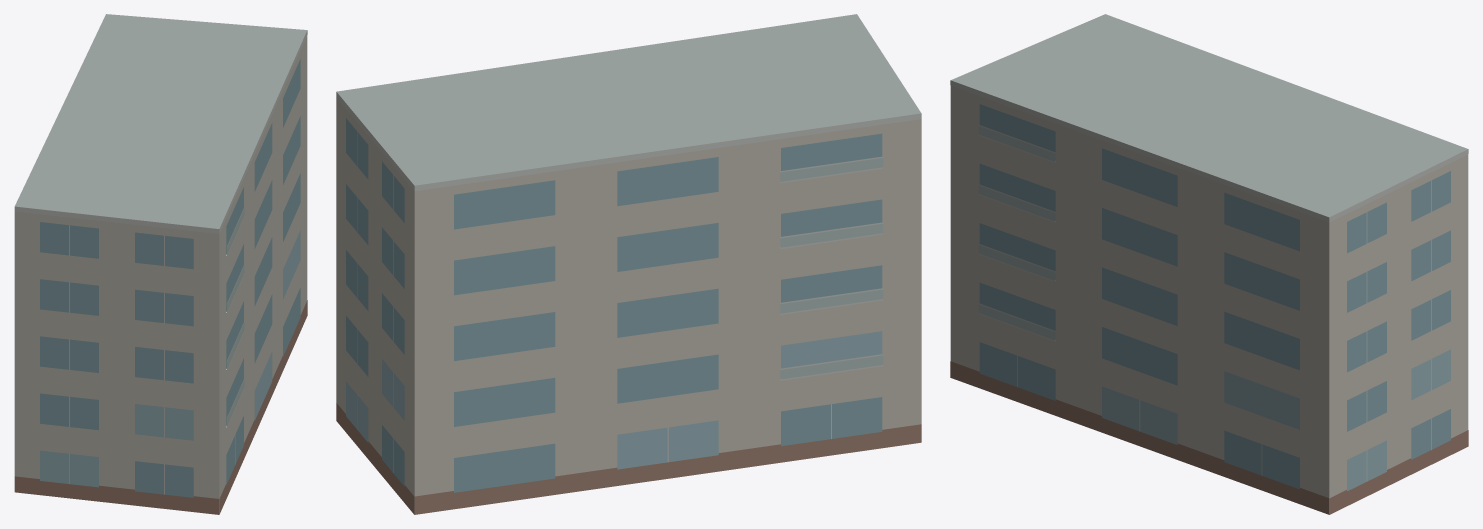
Rendered from survey-upis-32537802.glb.
3 views of the same model, side by side, from view 1: azimuth 30°, elevation 25°; view 2: azimuth 150°, elevation 25°; view 3: azimuth 270°, elevation 25° (orthographic). The views are drawn at different scales.
Visible parts, largest first — view 1: survey-upis-32537802.tmp; view 2: survey-upis-32537802.tmp; view 3: survey-upis-32537802.tmp.
Part boxes in pixels (x1=…): survey-upis-32537802.tmp: x1=14, y1=14, x2=307, y2=514; survey-upis-32537802.tmp: x1=336, y1=14, x2=921, y2=514; survey-upis-32537802.tmp: x1=950, y1=14, x2=1468, y2=514.
Size of the model in its own units: 20.98 by 14.3 by 22.57.
